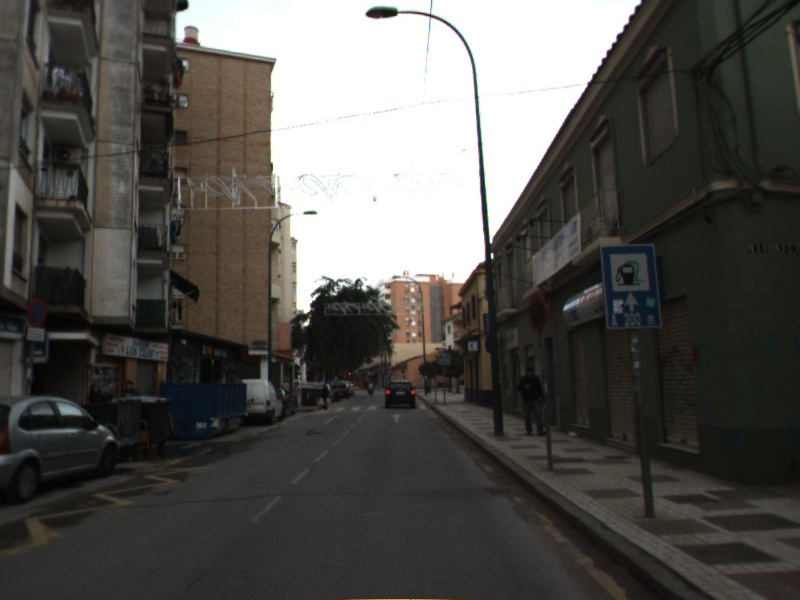STRAIGHT: (322, 413, 345, 426), (387, 411, 407, 424)
